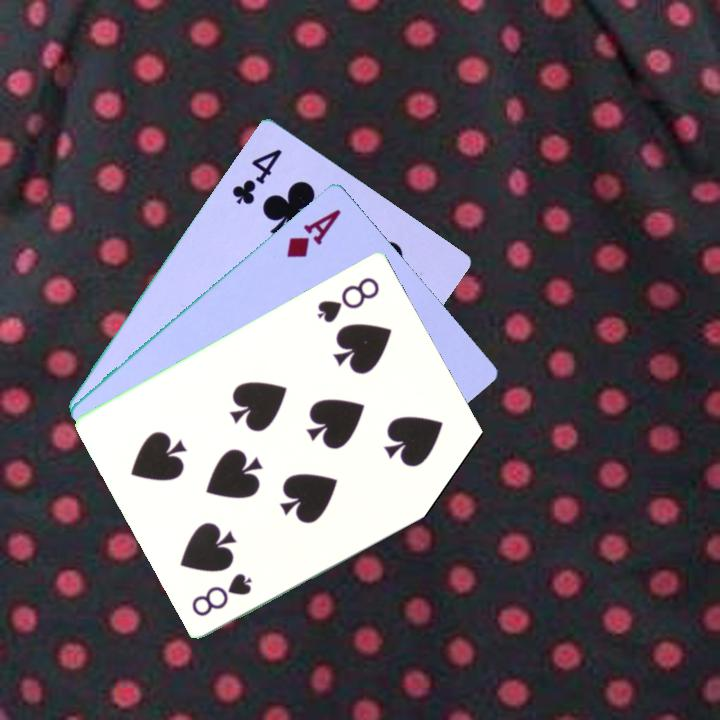4c: (228, 144, 285, 207)
8s: (314, 273, 383, 326), (188, 569, 256, 619)
Ad: (283, 204, 344, 261)
